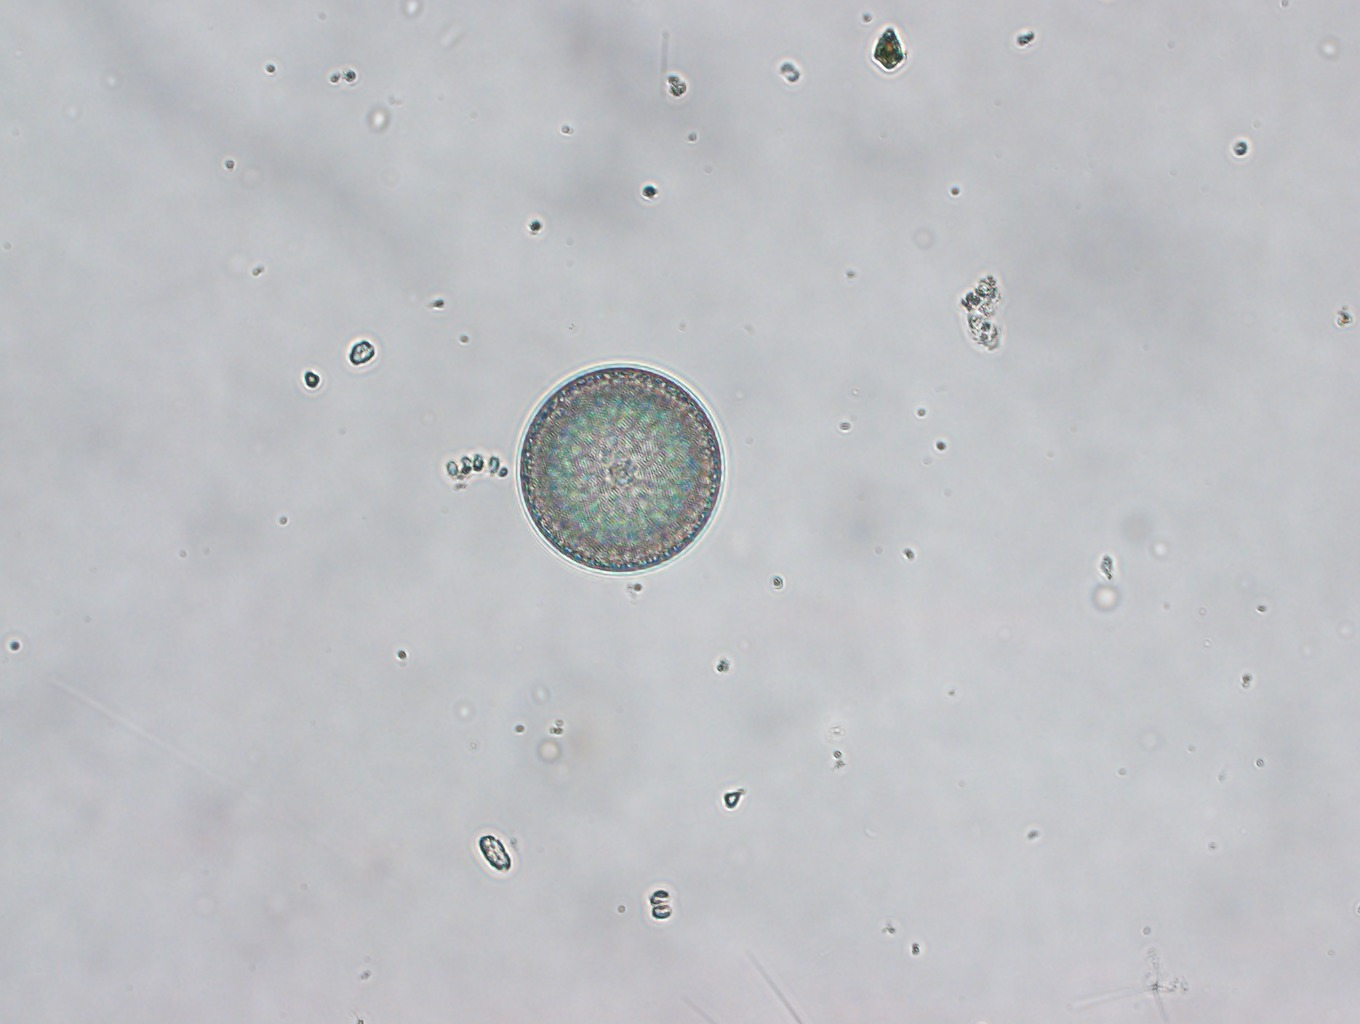chaetoceros: (513, 357, 725, 577)
